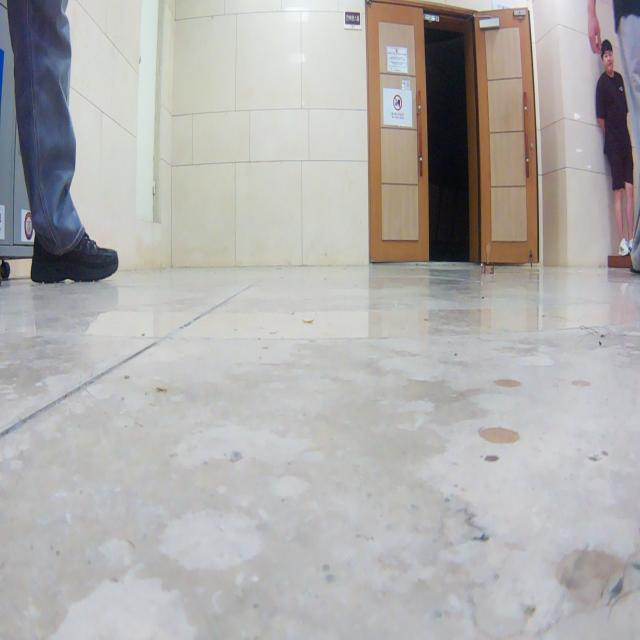target: (481, 242, 494, 274)
